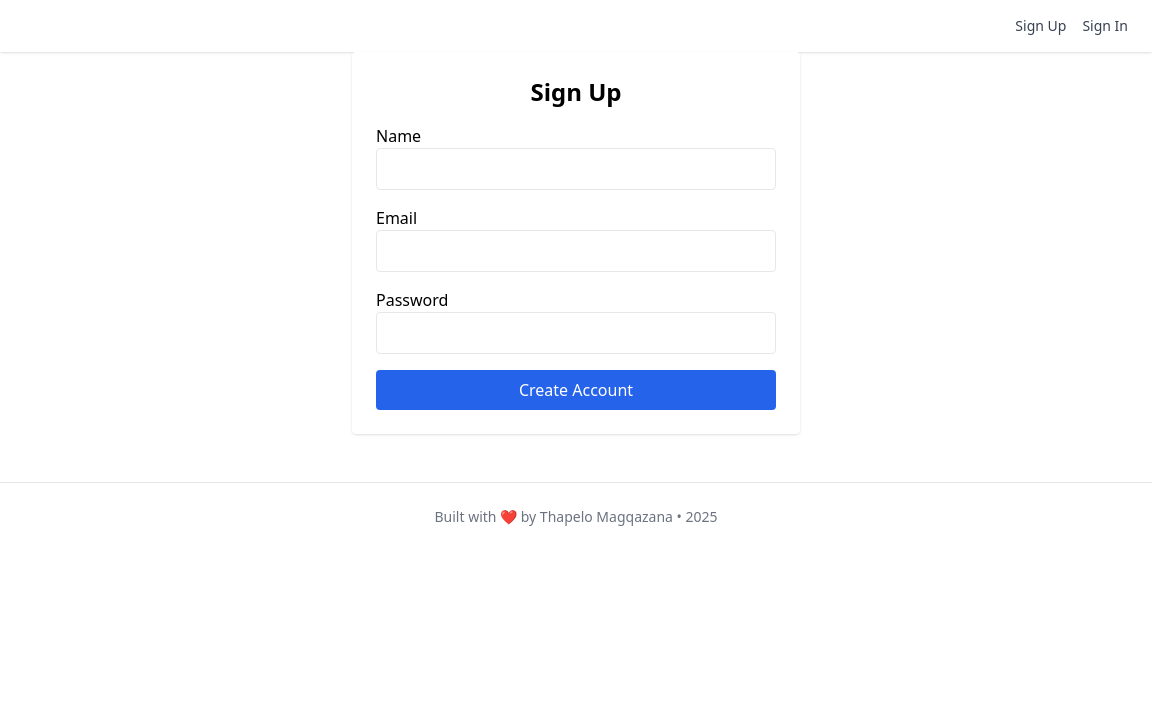
Test case: User Sign Up – Negative Cases › fails with short password
Type "Test User" into the field named "name" at (576, 169), box [376,148,776,190]
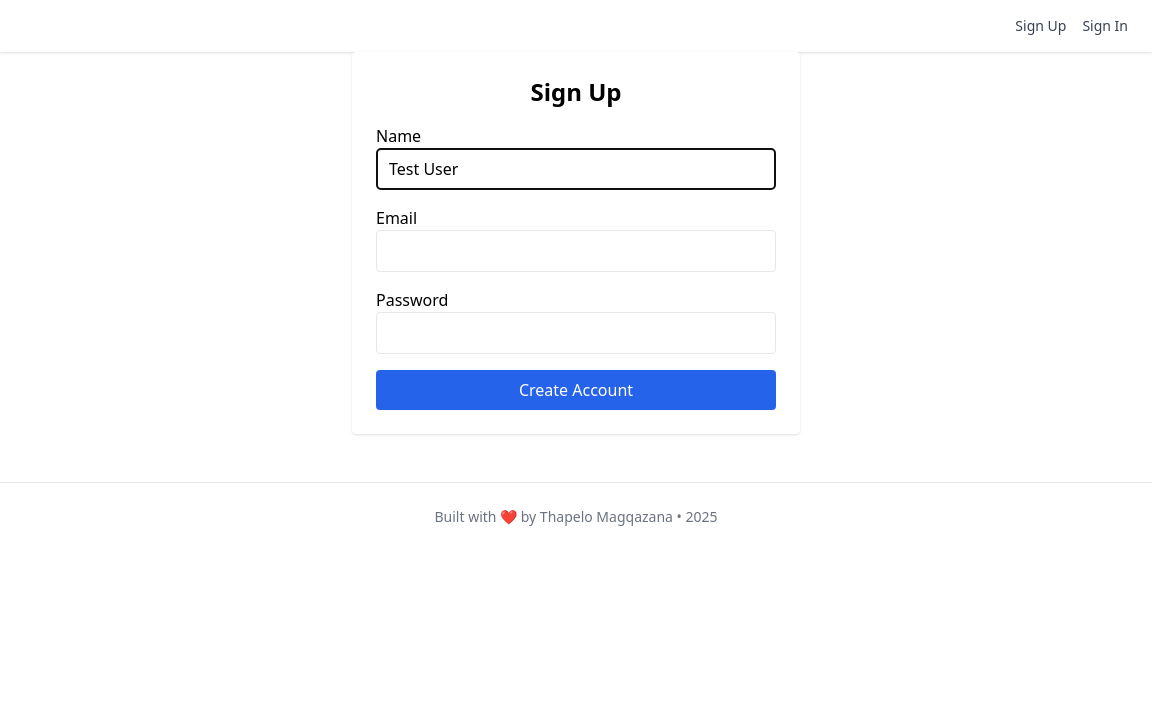
Type "testuser@example.com" into the field named "email" at (576, 251), box [376,230,776,272]
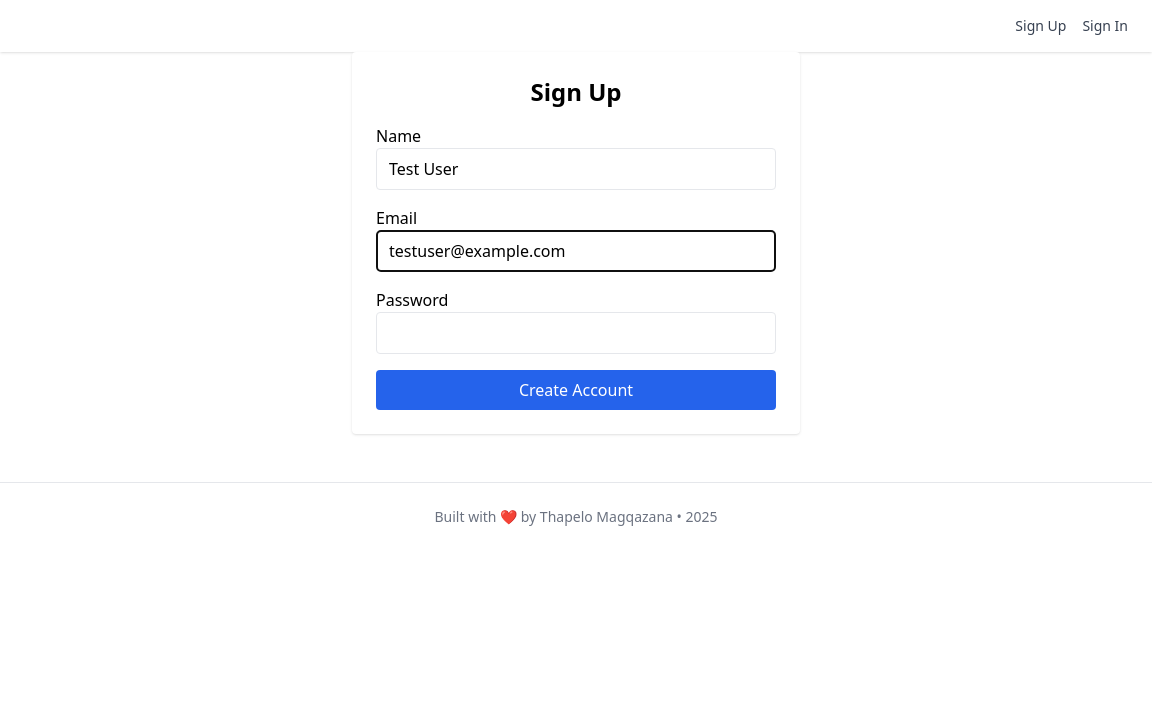
Type "123" into the password field named "password" at (576, 333), box [376,312,776,354]
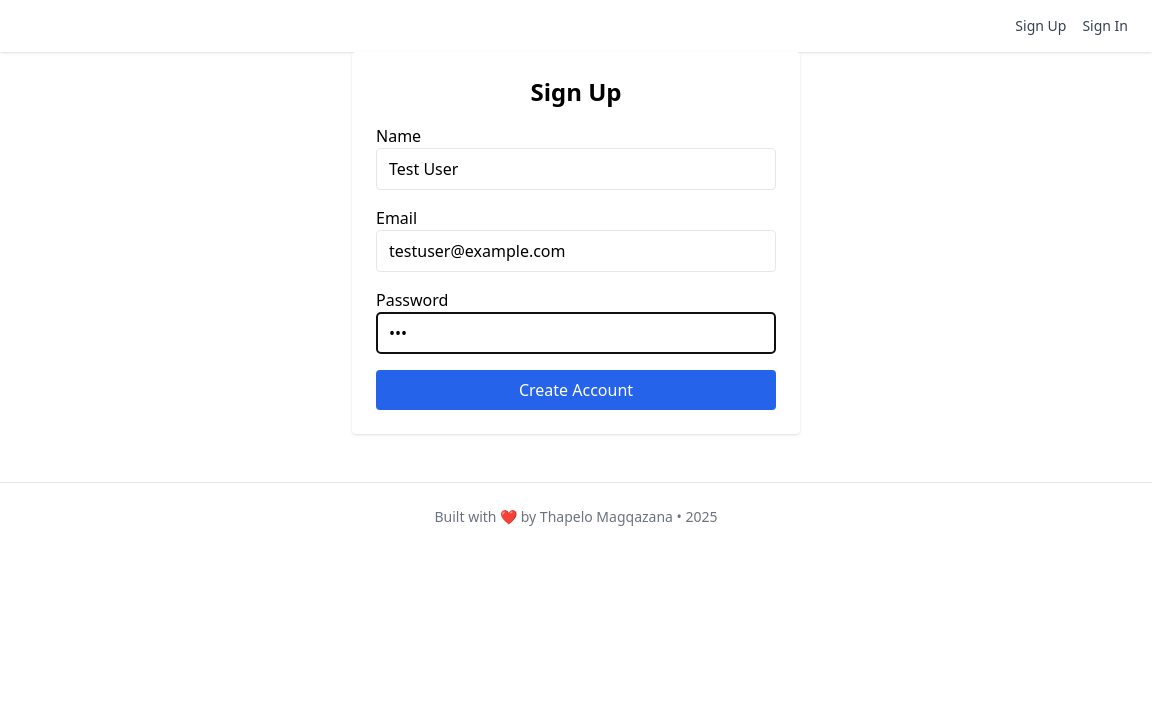
Click the submit button at (576, 390), box [376,370,776,410]
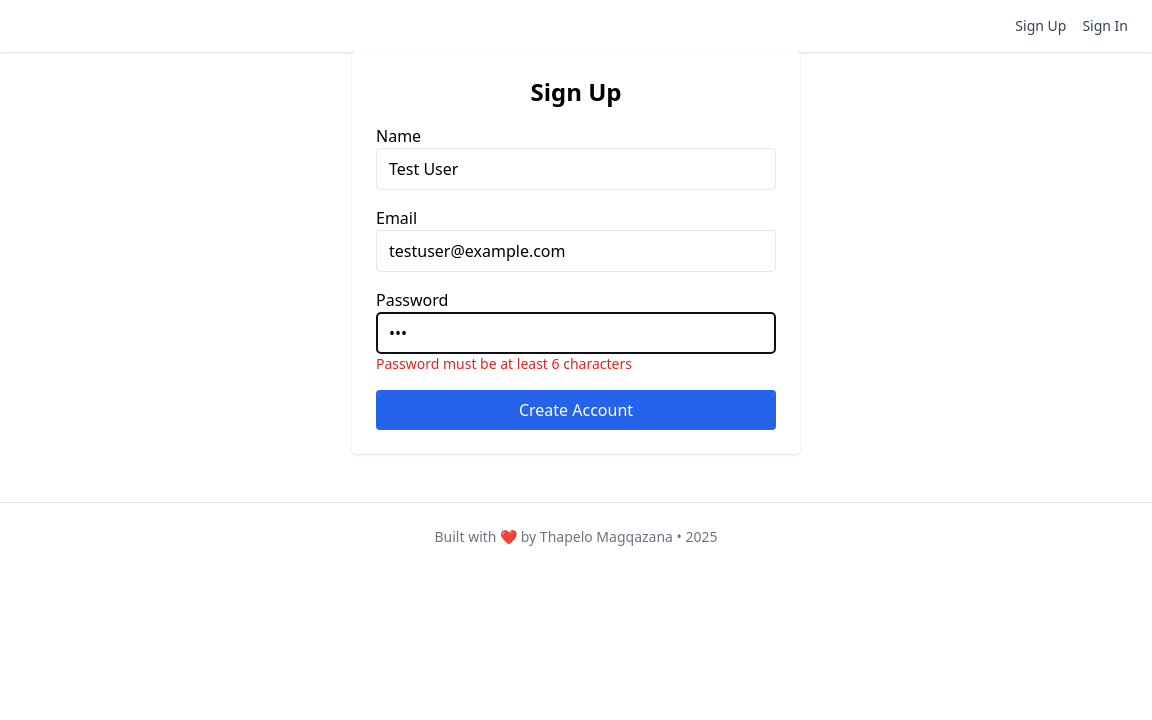
Expected: the text "Password must be at least 6 characters" is shown, [376,354,632,373]
